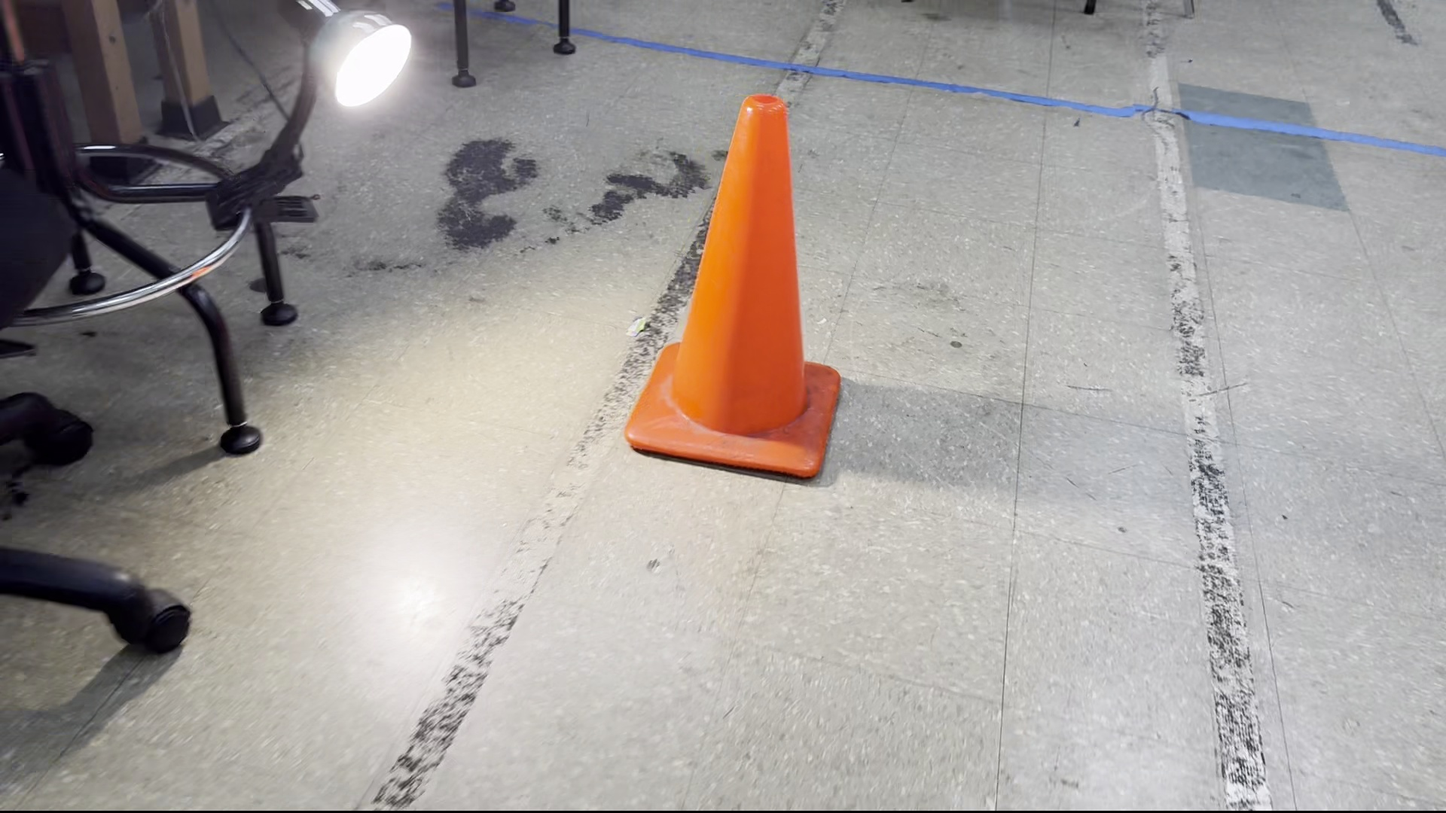traffic_cone: (623, 93, 842, 480)
